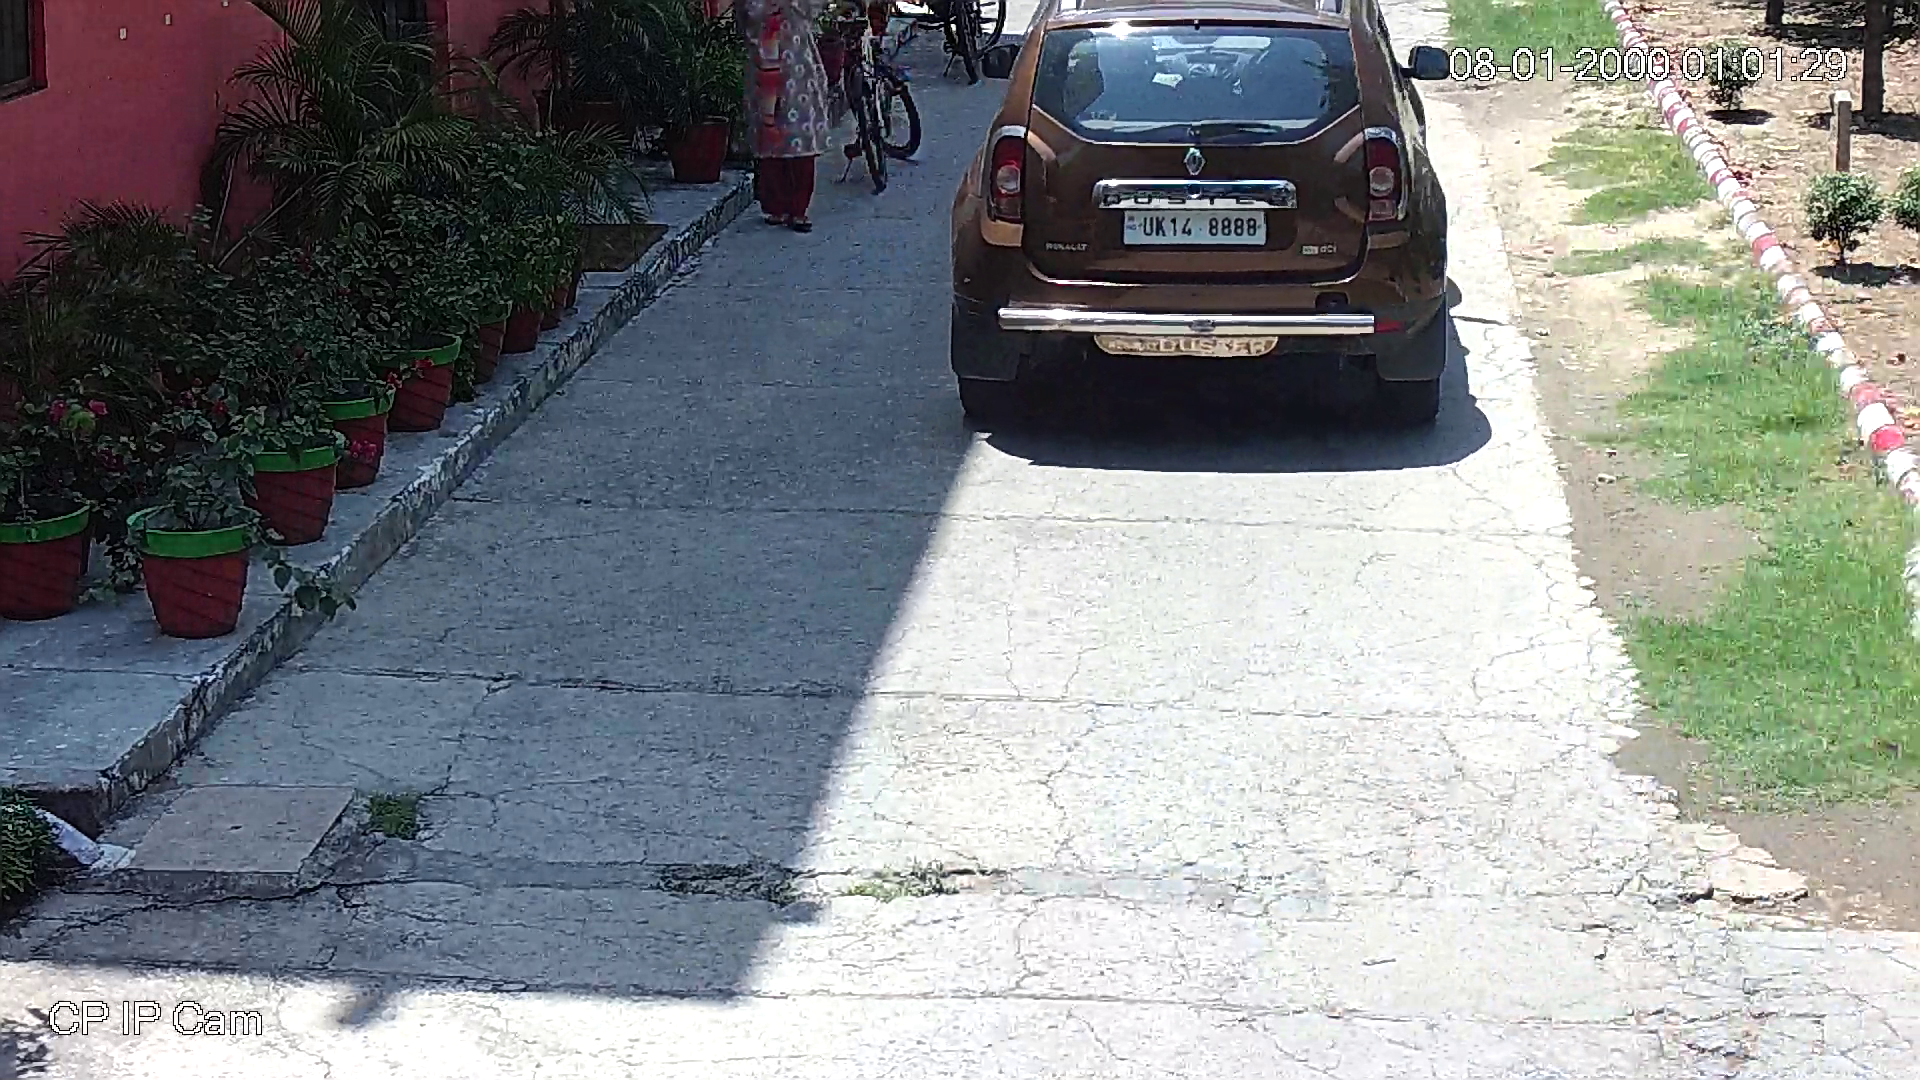plate: (1127, 208, 1265, 245)
